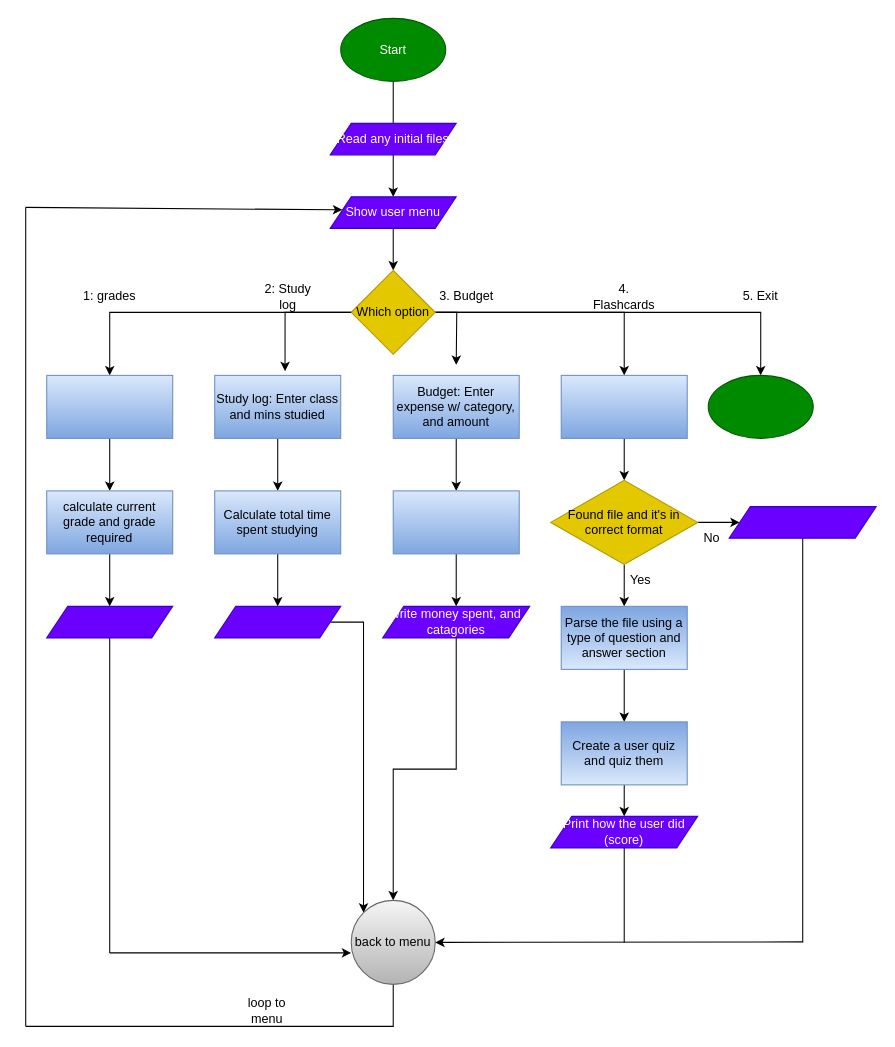
This 895x1047 diagram has some shape labels left out. Here are the shapes that lost their labels. From the top down, the box of each, then its label:
(46, 374, 173, 438): Grades: enter score or grade values
(560, 374, 687, 438): Flashcards: Ask for .md file
(707, 374, 813, 438): End
(392, 490, 519, 554): calculate and display monthly total and budget
(728, 506, 876, 538): Print error message
(46, 605, 173, 638): write to a grade file
(214, 605, 341, 638): write time spent studying in file
